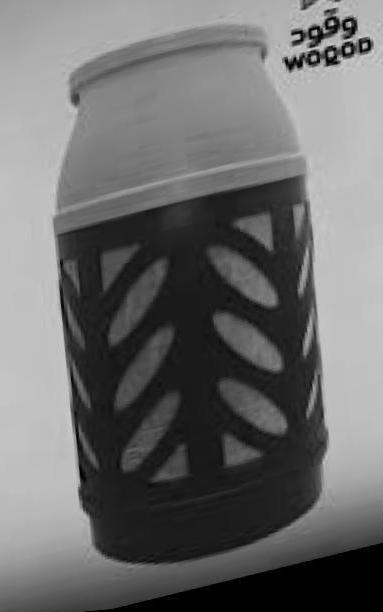cylinder: (1, 0, 383, 612)
